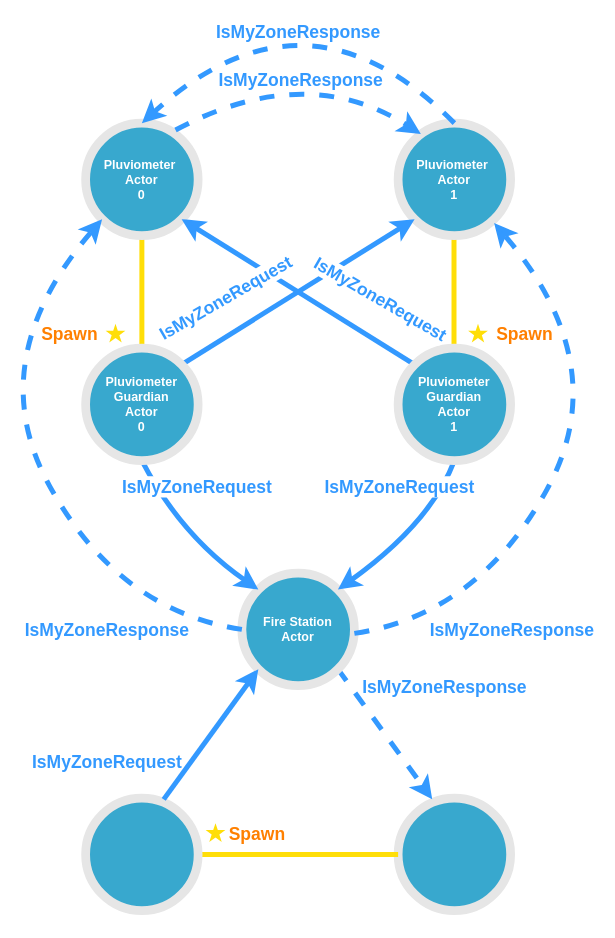
Some shapes in this 615 by 938 pixel diagram are drawn without their labels. The centre of each missing label's shape, as x and y in pixels:
View Actor: point 453,853
View Guardian Actor: point 141,853
